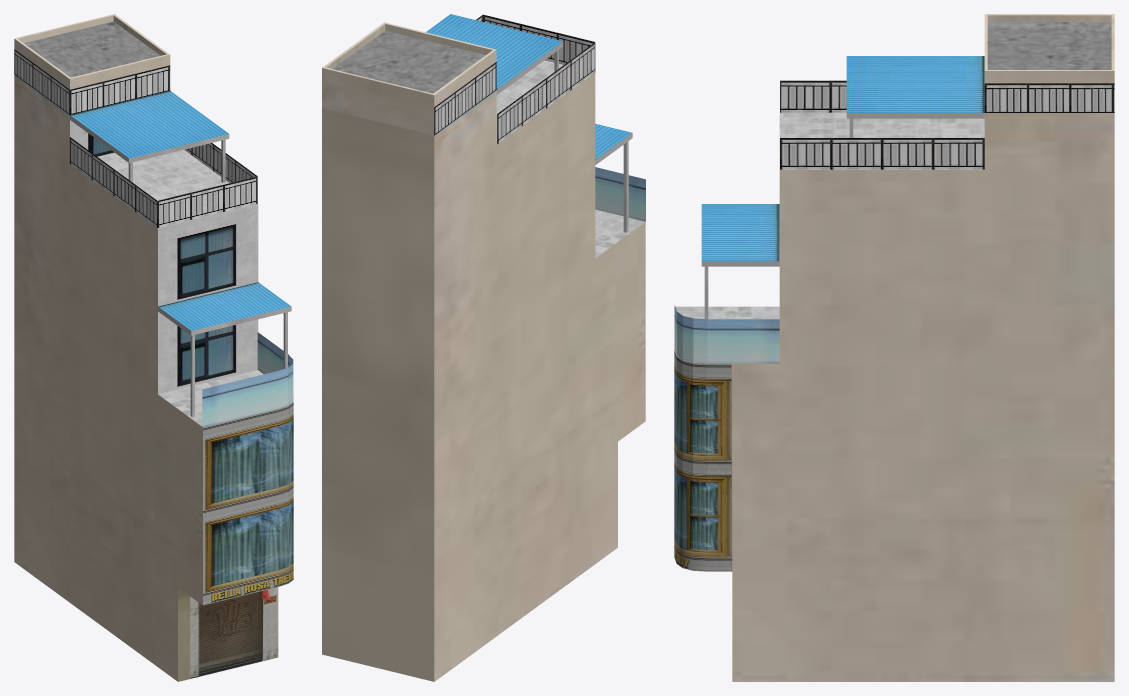
The picture shows the model from 3 angles, left to right: view 1: azimuth 30°, elevation 25°; view 2: azimuth 150°, elevation 25°; view 3: azimuth 270°, elevation 25°; orthographic projection. The views are drawn at different scales.
Visible parts, largest first — view 1: HN1022___Bella_Rosa_Trendy_Hotel; view 2: HN1022___Bella_Rosa_Trendy_Hotel; view 3: HN1022___Bella_Rosa_Trendy_Hotel.
Boxes of the visible parts, x1=… form: HN1022___Bella_Rosa_Trendy_Hotel: x1=14, y1=14, x2=293, y2=681; HN1022___Bella_Rosa_Trendy_Hotel: x1=322, y1=14, x2=645, y2=681; HN1022___Bella_Rosa_Trendy_Hotel: x1=674, y1=14, x2=1114, y2=681.
Bounding box in the file's own units: 3.2 × 15.9 × 10.38.
1 material, 1 textured.
